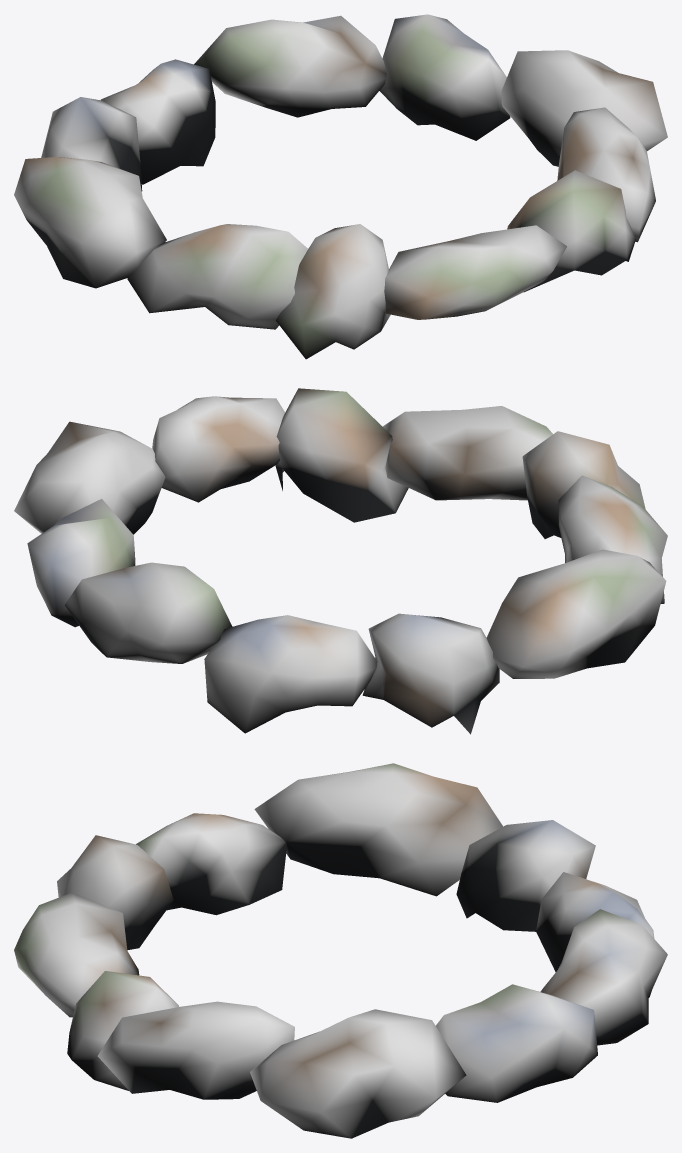
The model's file is stoneRing.glb.
3 renders of one model, top to bottom at view 1: azimuth 30°, elevation 25°; view 2: azimuth 150°, elevation 25°; view 3: azimuth 270°, elevation 25°, orthographic. The views are drawn at different scales.
Parts seen in each view (by area): view 1: FIRE_RING; view 2: FIRE_RING; view 3: FIRE_RING.
Part boxes in pixels (left/top/right/bottom): FIRE_RING: left=14, top=14, right=667, bottom=359; FIRE_RING: left=14, top=388, right=667, bottom=734; FIRE_RING: left=14, top=763, right=667, bottom=1138.
Bounding box in the file's own units: 1.75 × 0.3382 × 1.6.
